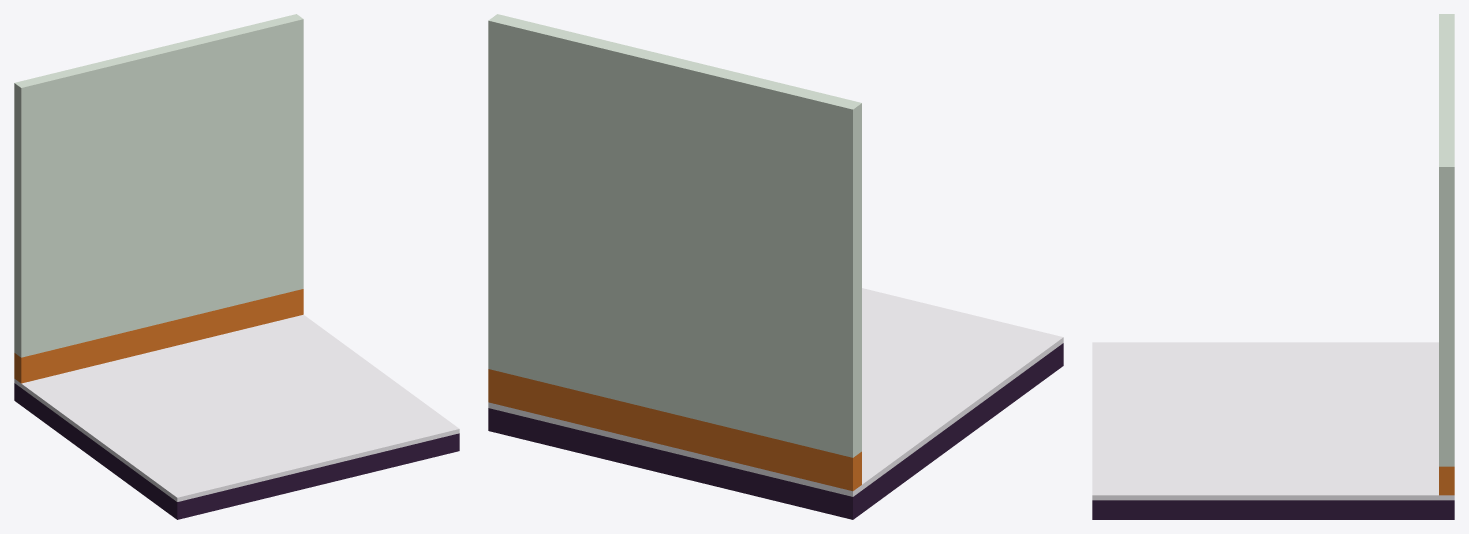
File: wall.glb
The picture shows the model from 3 angles, left to right: view 1: azimuth 30°, elevation 25°; view 2: azimuth 150°, elevation 25°; view 3: azimuth 270°, elevation 25°; orthographic projection. The views are drawn at different scales.
Visible parts, largest first — view 1: wall; view 2: wall; view 3: wall.
Part boxes in pixels (x1,y1,x2,y2): wall: [14, 14, 459, 519]; wall: [488, 14, 1063, 519]; wall: [1092, 14, 1454, 519].
Size of the model in its own units: 2 by 2.15 by 2.
1 material, 1 textured.
